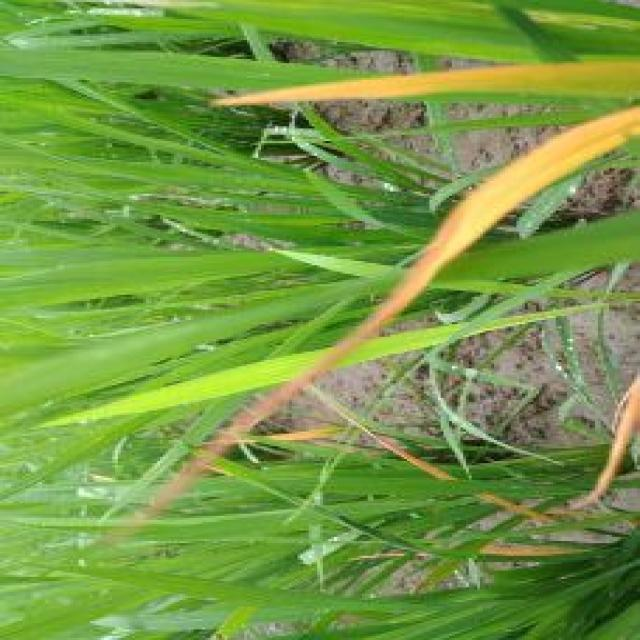Tungro: (339, 128, 640, 324), (189, 51, 570, 122), (249, 402, 450, 486), (527, 362, 640, 509)
